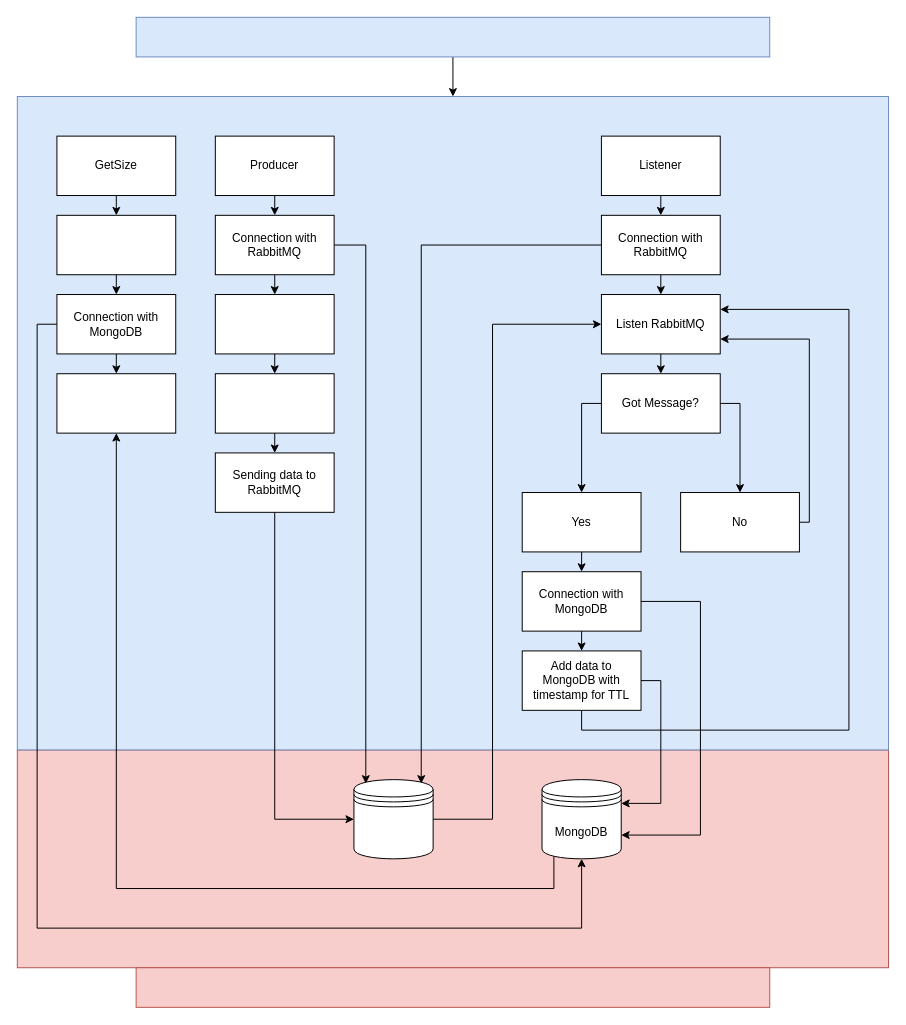
Some shapes in this 906 by 1025 pixel diagram are drawn without their labels. Here are the shapes that lost their labels. From the top down, the centre of each, then its label:
the point at 452,36: docker-compose up
the point at 116,244: Get /GetStats request
the point at 274,324: Post /AddTask request
the point at 116,403: Get number of objects inside MongoDB
the point at 274,403: Validating data
the point at 393,819: RabbitMQ
the point at 452,987: Local Machine
